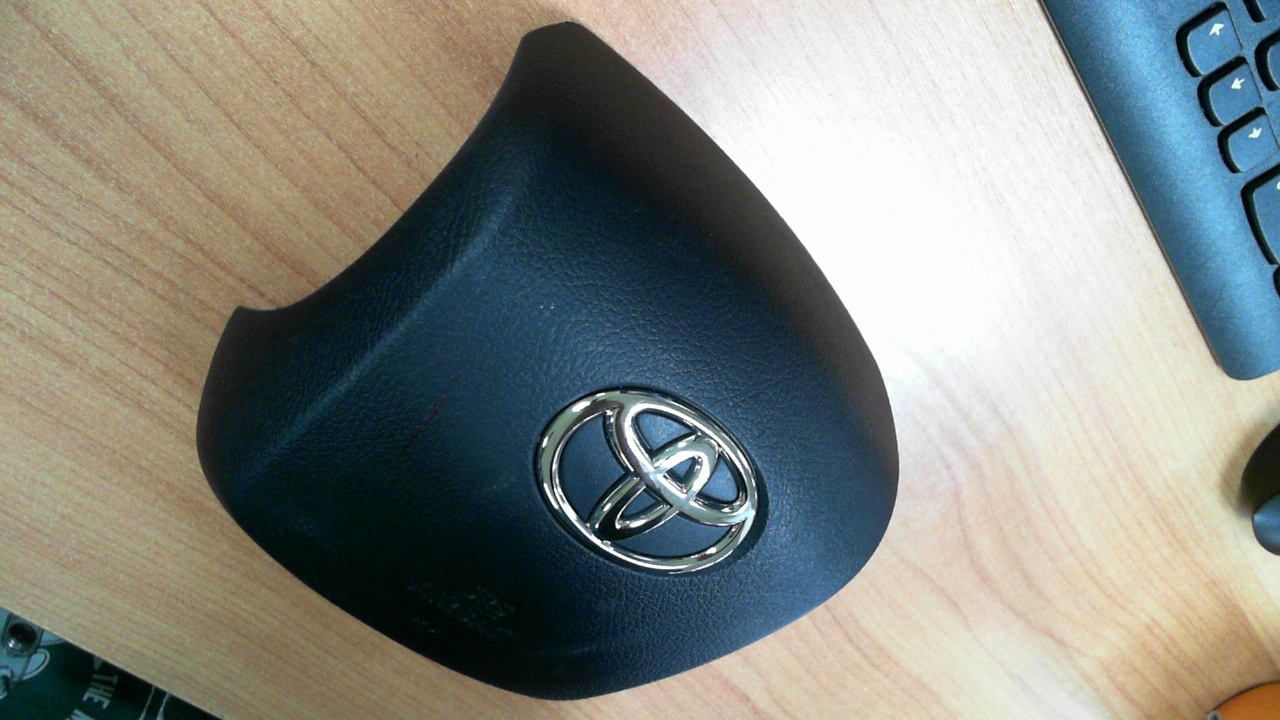Airbag: (194, 19, 901, 703)
Toyota: (540, 390, 758, 574)
